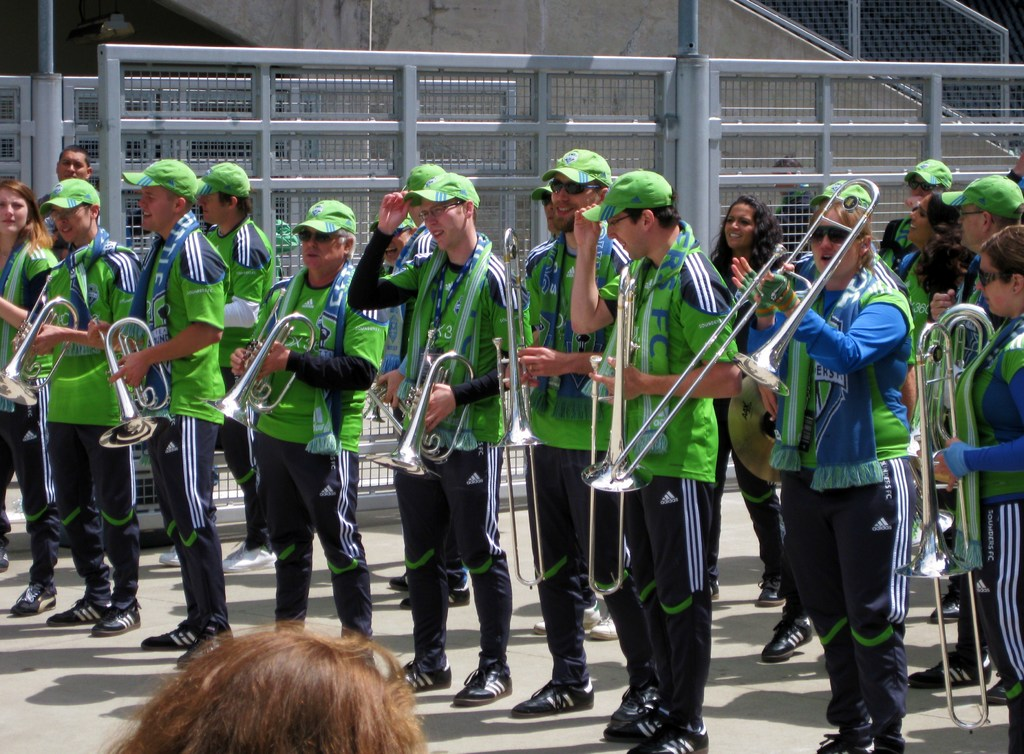Person: (2, 147, 1024, 753), (95, 608, 437, 754), (771, 155, 814, 253)
